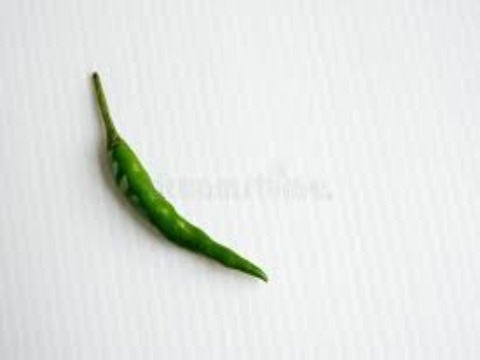Chilli: (80, 59, 286, 301)
